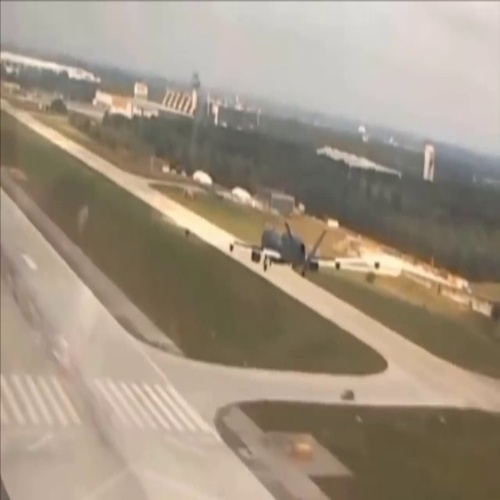uav: (218, 218, 341, 280)
